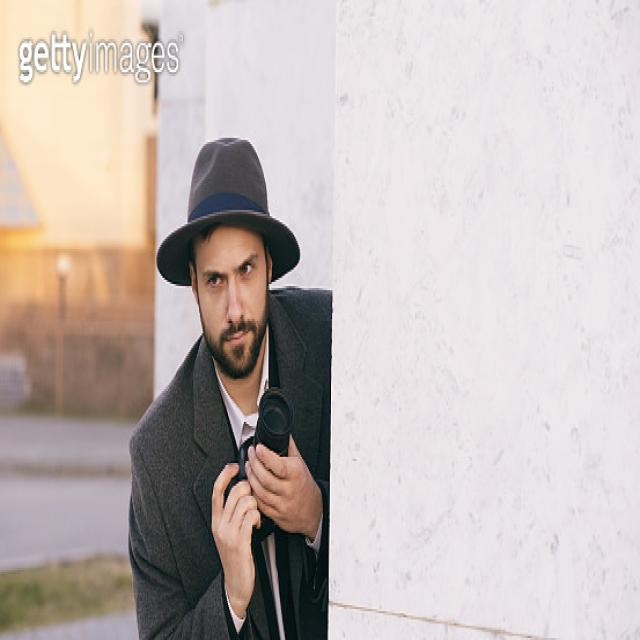hat: (157, 136, 301, 378)
